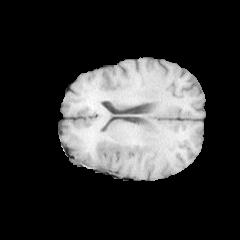glioma: (102, 139, 149, 159)
